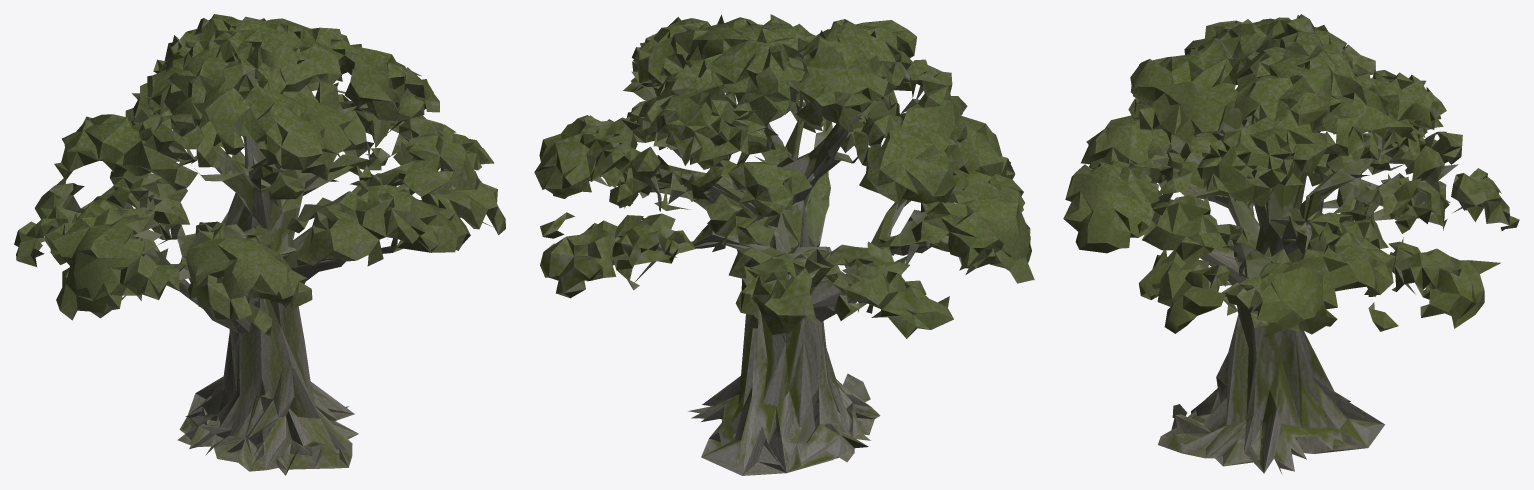
Rendered from balete.glb.
The picture shows the model from 3 angles, left to right: view 1: azimuth 30°, elevation 25°; view 2: azimuth 150°, elevation 25°; view 3: azimuth 270°, elevation 25°; orthographic projection. The views are drawn at different scales.
Visible parts, largest first — view 1: mesh_node; view 2: mesh_node; view 3: mesh_node.
Boxes of the visible parts, x1,y1,x2,y2 form: mesh_node: (14,14,505,475); mesh_node: (534,14,1034,475); mesh_node: (1063,14,1519,474).
Bounding box in the file's own units: 1.89 × 1.61 × 1.68.
1 material, 1 textured.
